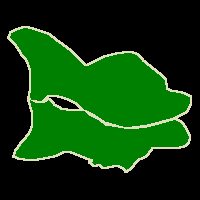shoe: (8, 26, 191, 128), (13, 98, 190, 172)
